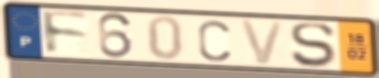0: (144, 14, 186, 62)
6: (96, 11, 135, 61)
C: (195, 18, 233, 63)
F: (39, 8, 92, 57)
S: (288, 22, 337, 69)
V: (237, 18, 287, 66)
